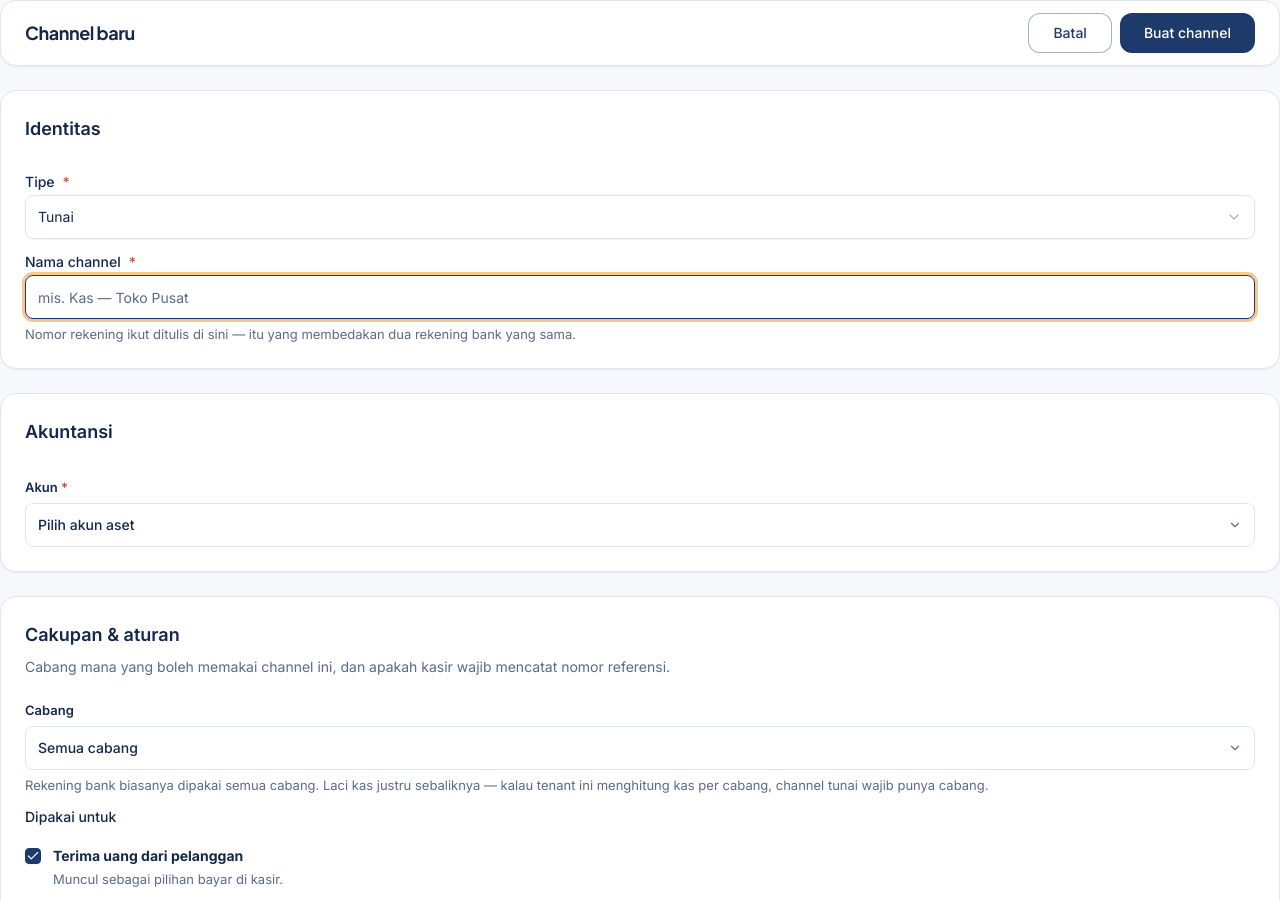
PaymentChannelForm — the MDR field only exists where a fee is deducted › appears for EDC
Click the dropdown named "tipe" at x=56, y=216, box 25,195 -> 1255,239
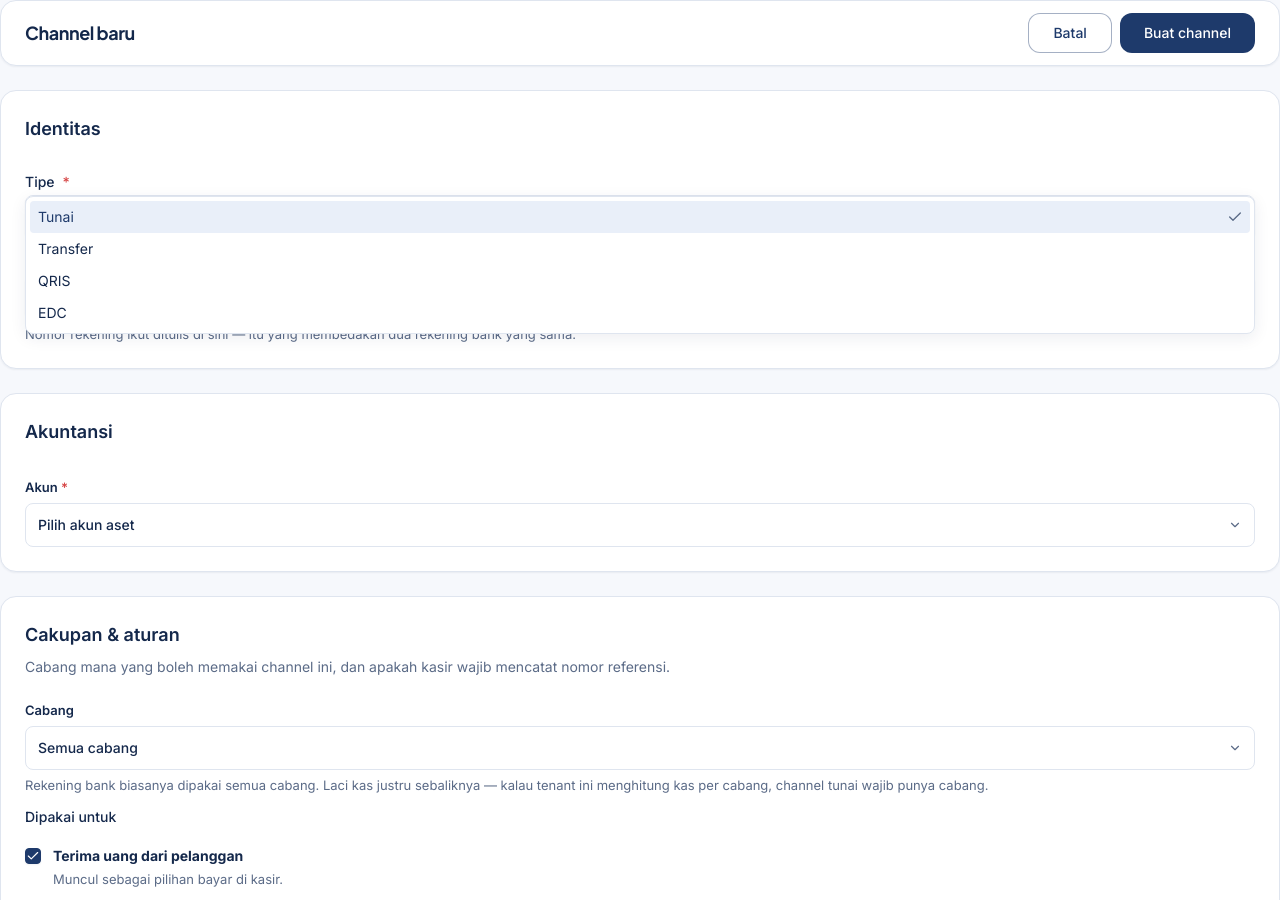
Click the option "EDC" at x=52, y=312, box 38,304 -> 67,321
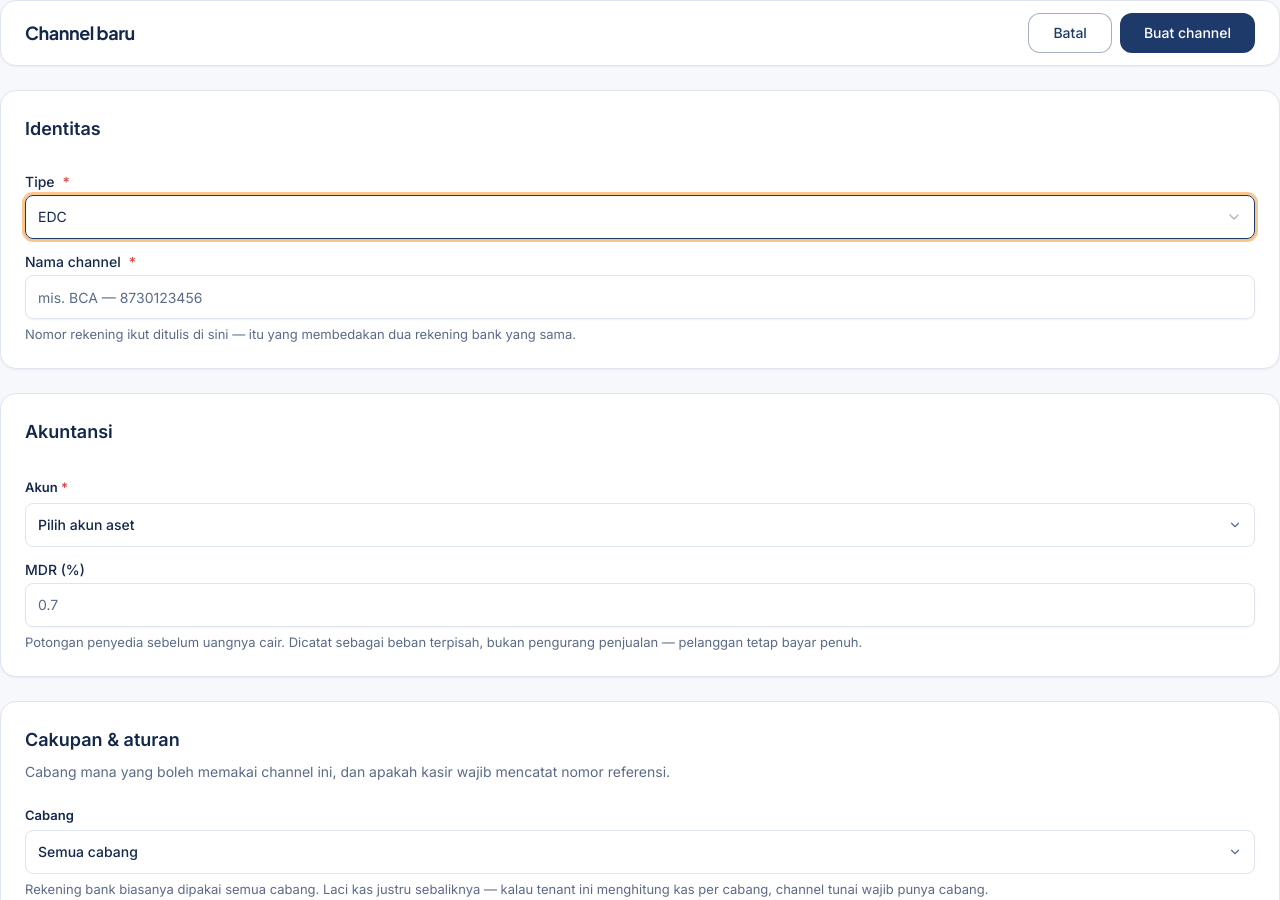
Check: the field labelled "MDR (%)" is shown, box 25,583 -> 1255,627
